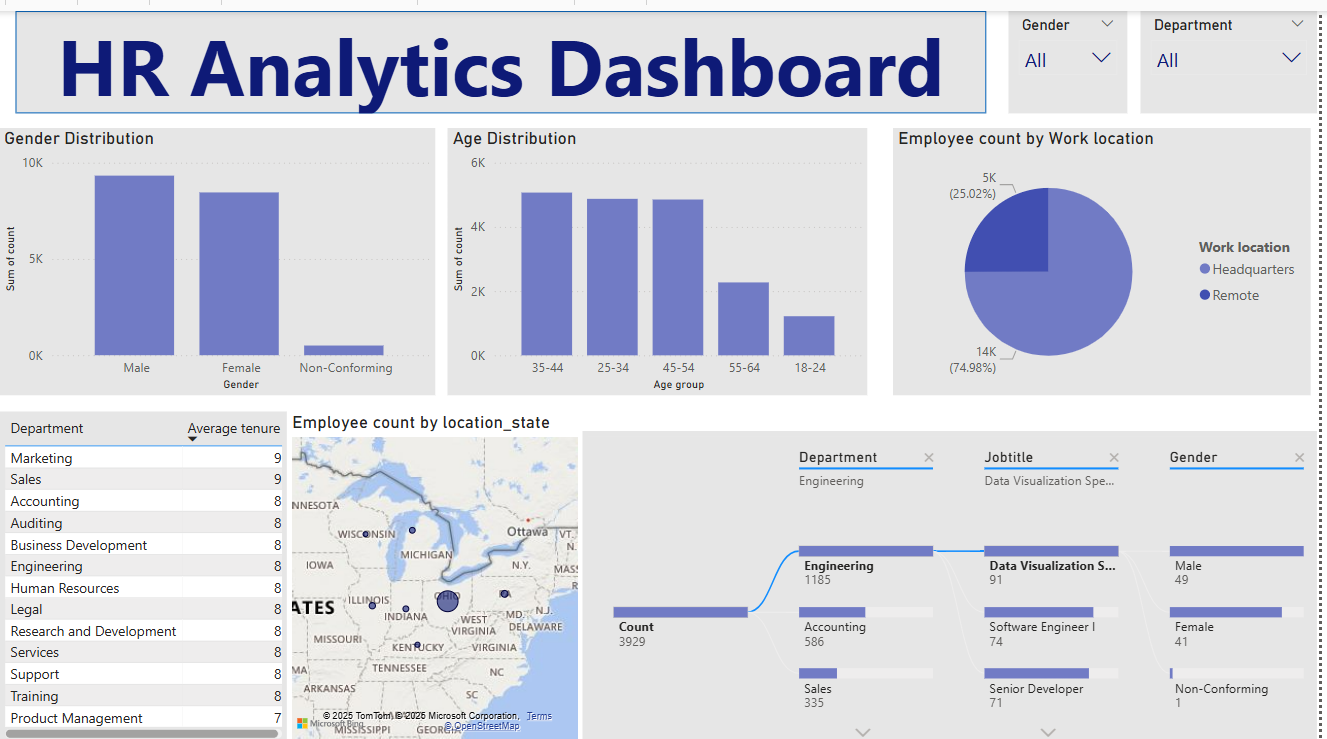

The page's visual inventory and layout, read from the dashboard file:
{"tool":"powerbi","page":{"name":"Page 1","canvas":[1280,720],"ordinal":0},"visuals":[{"type":"columnChart","title":"Gender Distribution","fields":{"Category":["gender_breakdown.gender"],"Y":["Sum(gender_breakdown.count)"]},"box":[0,113.1,423.2,259.4],"z":0},{"type":"tableEx","title":"Gender Distribution","fields":{"Values":["AVG_tenure.department","Sum(AVG_tenure.avg_tenure)"]},"box":[0,388.3,279.6,322.3],"z":1},{"type":"map","fields":{"Category":["location_state.location_state"],"Size":["Sum(location_state.count)"]},"box":[279.6,388.3,287.3,322.3],"z":2},{"type":"decompositionTreeVisual","fields":{"Analyze":["Sum(gender_distribution_across_department_and_jobtitle.count)"],"ExplainBy":["gender_distribution_across_department_and_jobtitle.department","gender_distribution_across_department_and_jobtitle.jobtitle","gender_distribution_across_department_and_jobtitle.gender"]},"box":[566.9,407.7,712.5,302.9],"z":3},{"type":"columnChart","title":"Age Distribution ","fields":{"Y":["Sum(avg_distribution_of_agr_in_the_company.count)"],"Category":["avg_distribution_of_agr_in_the_company.age_group"]},"box":[434.9,113.1,407.6,259.4],"z":4},{"type":"pieChart","fields":{"Y":["Sum(HQ_vs_remote.count)"],"Category":["HQ_vs_remote.location"]},"box":[867.9,113.1,405.7,259.4],"z":5},{"type":"shape","box":[15.6,0,942,99.5],"z":6},{"type":"slicer","fields":{"Values":["gender_breakdown.gender"]},"box":[979,0,115.1,99.5],"z":7},{"type":"slicer","fields":{"Values":["gender_distribution_across_department_and_jobtitle.department"]},"box":[1107.7,0,171.6,99.5],"z":8}]}

Visuals, with their boxes in screenshot pixels (x1, y1, x2, y2), scaled from the page's 1280x720 canvas onto the 1327x739 screenshot:
"Gender Distribution" columnChart: 0,116,439,382
"Gender Distribution" tableEx: 0,399,290,729
map - location_state.location_state x Sum(location_state.count): 290,399,588,729
decompositionTreeVisual - Sum(gender_distribution_across_department_and_jobtitle.count) x gender_distribution_across_department_and_jobtitle.department: 588,418,1326,729
"Age Distribution " columnChart: 451,116,873,382
pieChart - Sum(HQ_vs_remote.count) x HQ_vs_remote.location: 900,116,1320,382
shape: 16,0,993,102
slicer - gender_breakdown.gender: 1015,0,1134,102
slicer - gender_distribution_across_department_and_jobtitle.department: 1148,0,1326,102
